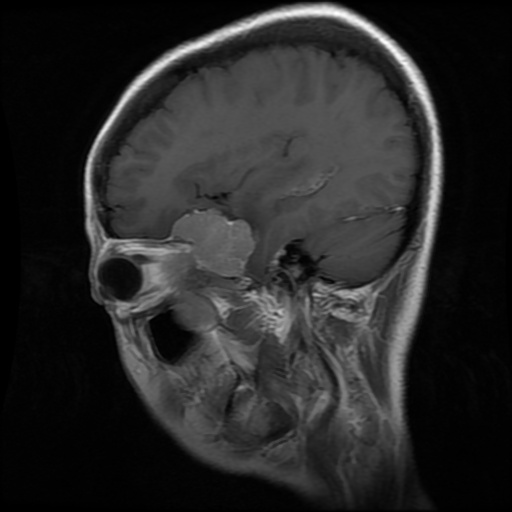meningioma: (170, 208, 254, 276)
